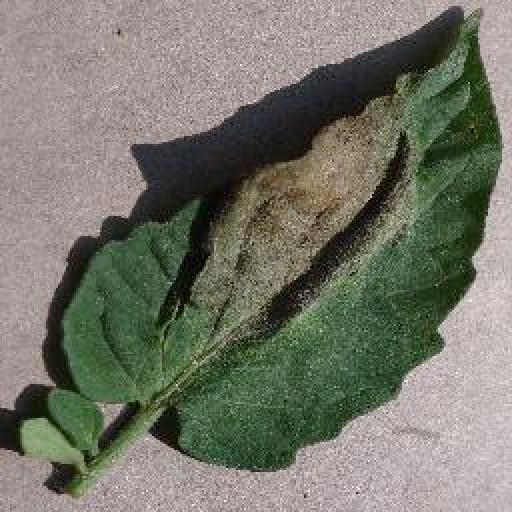disease_tomato: (66, 8, 506, 474)
